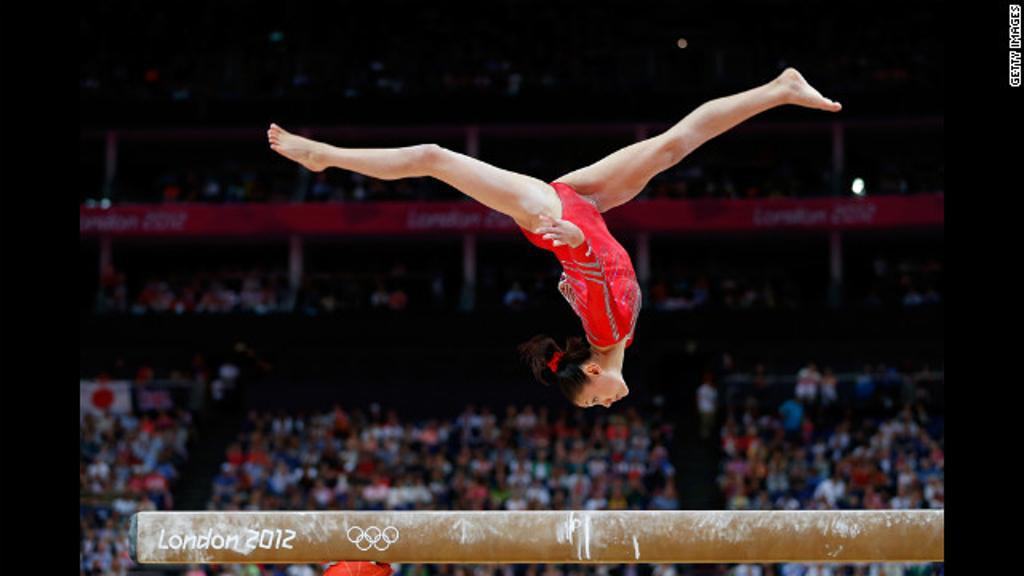face: (563, 377, 631, 413)
